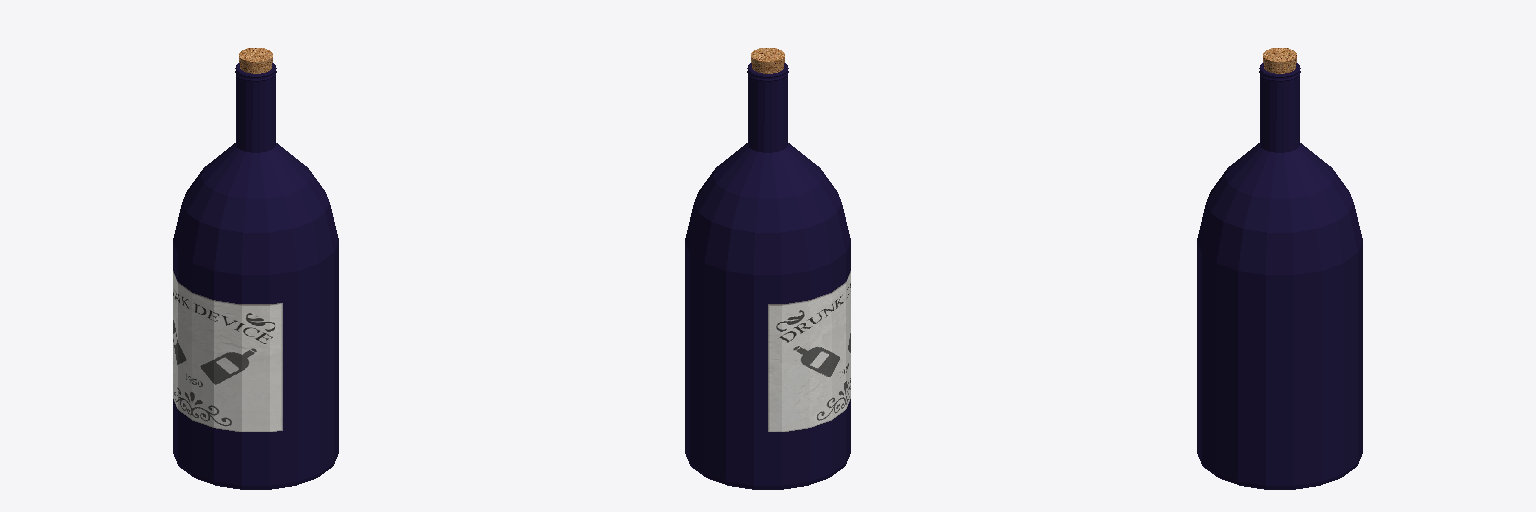
3 views of the same model, side by side, from view 1: azimuth 30°, elevation 25°; view 2: azimuth 150°, elevation 25°; view 3: azimuth 270°, elevation 25° (orthographic).
Parts seen in each view (by area): view 1: Botella_004_Botellas_004_lambert2SG_001; view 2: Botella_004_Botellas_004_lambert2SG_001; view 3: Botella_004_Botellas_004_lambert2SG_001.
Part boxes in pixels (bbox=[...]): Botella_004_Botellas_004_lambert2SG_001: bbox=[173, 48, 338, 489]; Botella_004_Botellas_004_lambert2SG_001: bbox=[685, 48, 850, 489]; Botella_004_Botellas_004_lambert2SG_001: bbox=[1197, 48, 1362, 489].
Bounding box in the file's own units: 0.6333 × 1.72 × 0.6431.
1 materials, 1 textured.